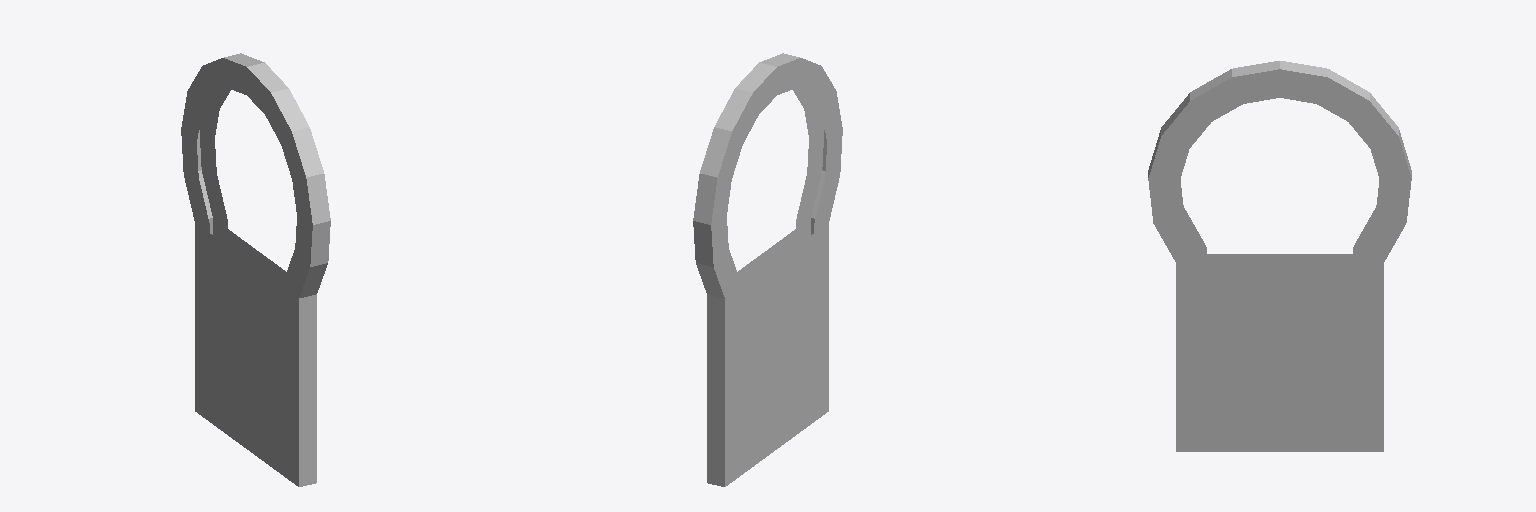
Rendered from original-10.obj.
3 renders of one model, left to right at view 1: azimuth 30°, elevation 25°; view 2: azimuth 150°, elevation 25°; view 3: azimuth 270°, elevation 25°, orthographic.
Visible parts, largest first — view 1: #ID6; view 2: #ID6; view 3: #ID6.
Part boxes in pixels (bbox=[...]): #ID6: bbox=[181, 53, 330, 486]; #ID6: bbox=[693, 53, 842, 486]; #ID6: bbox=[1148, 61, 1411, 451].
Bounding box in the file's own units: 0.0062 × 0.1264 × 0.079.